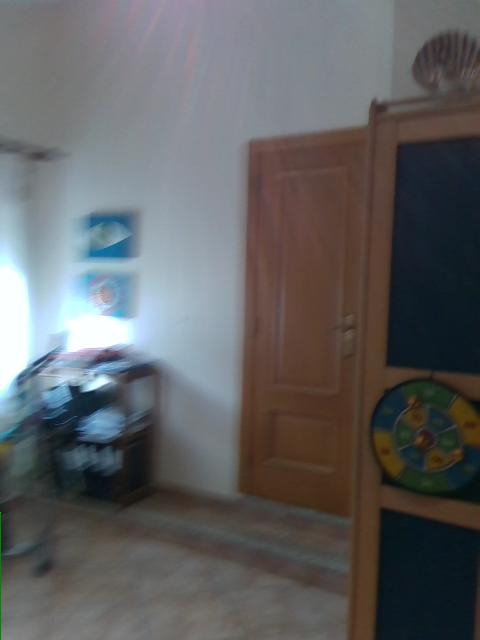door: (231, 121, 372, 518)
